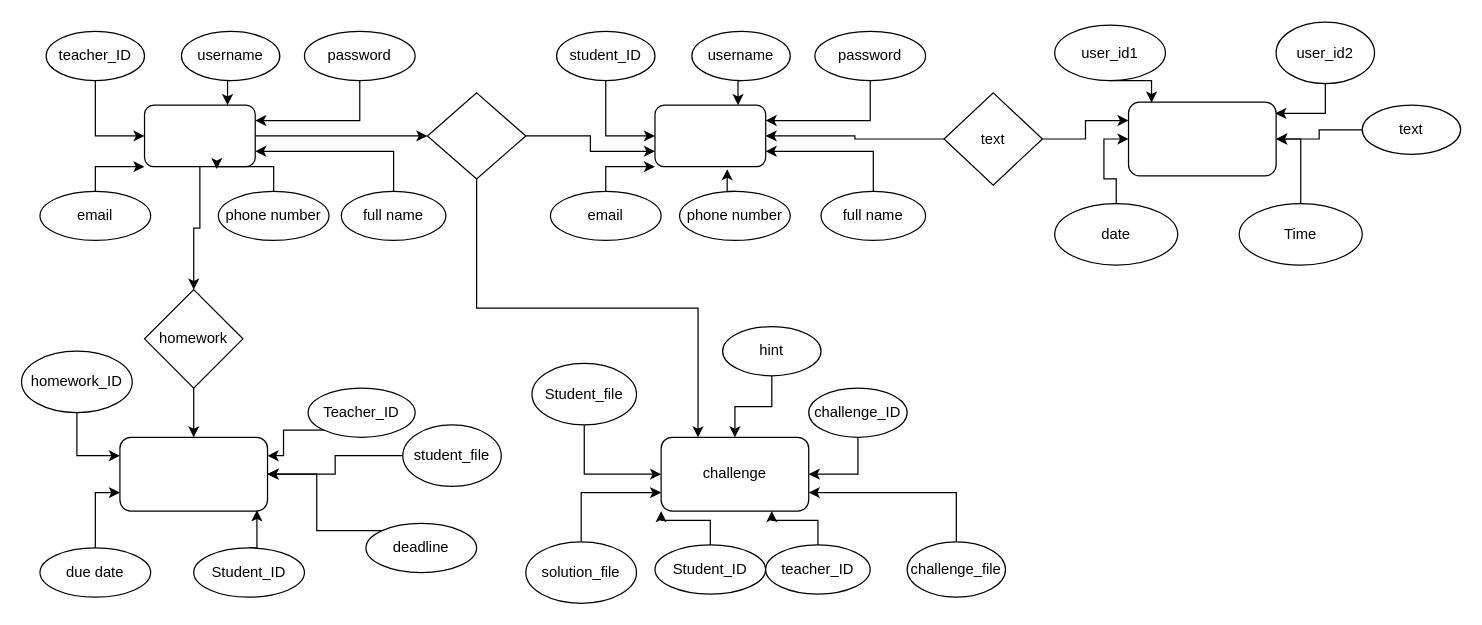
This 1482x625 diagram has some shape labels left out. Each missing label, with the centre of its shape:
Homework_file: point (193, 473)
message: point (1201, 138)
student: point (710, 135)
teach: point (476, 135)
teacher: point (199, 135)
